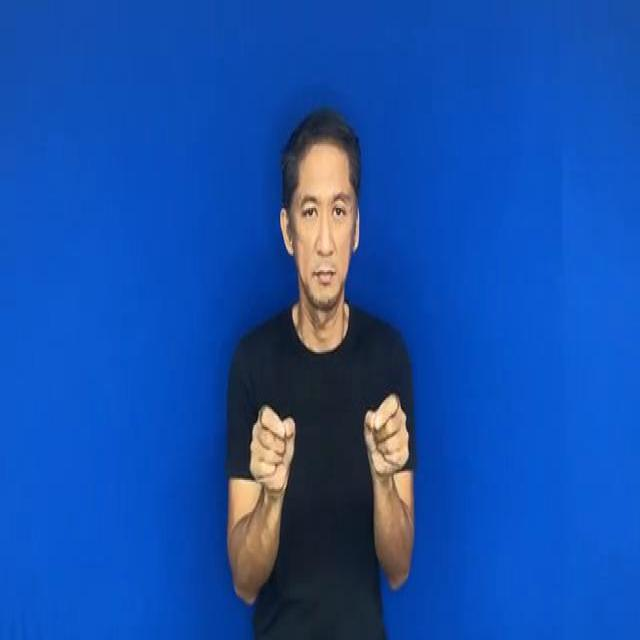crab: (244, 396, 308, 504), (349, 388, 415, 486)
